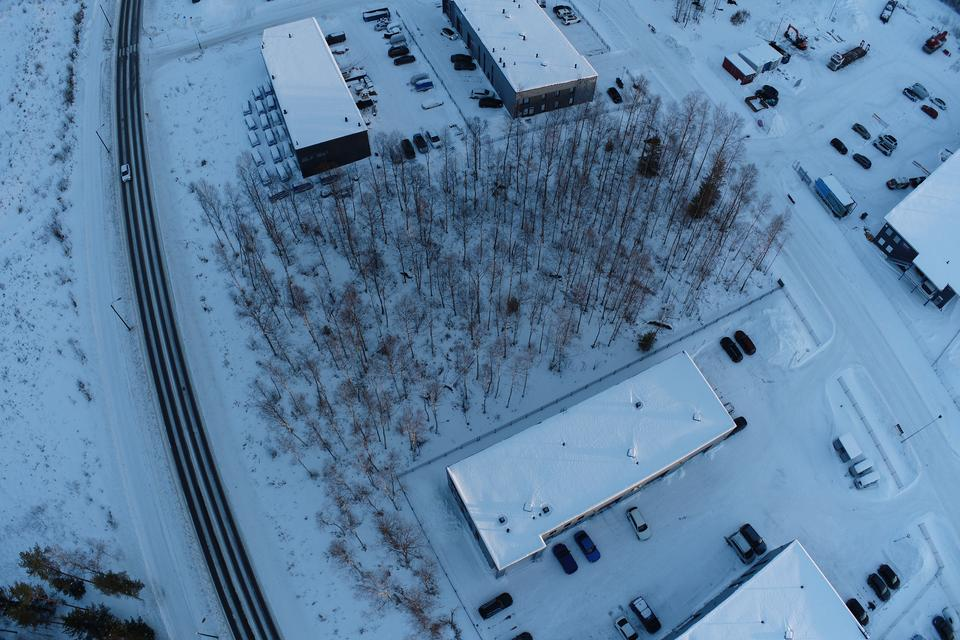intersection: (89, 28, 189, 99)
